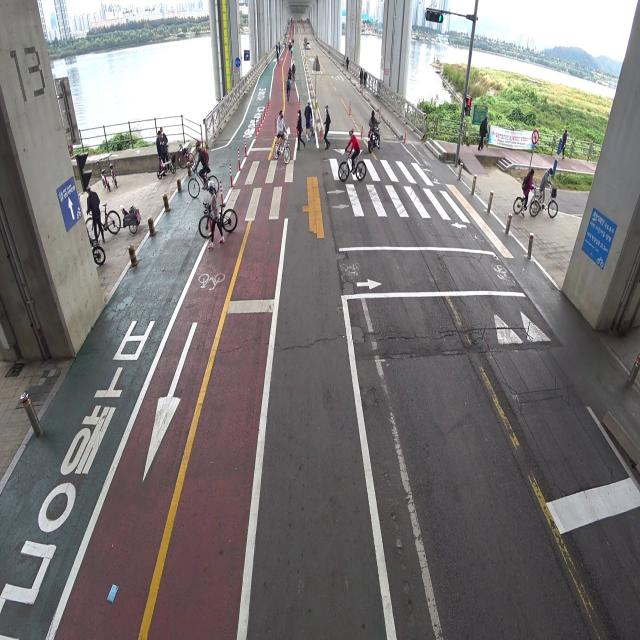Car: (304, 36, 312, 52)
Motorcycle: (368, 109, 380, 151)
